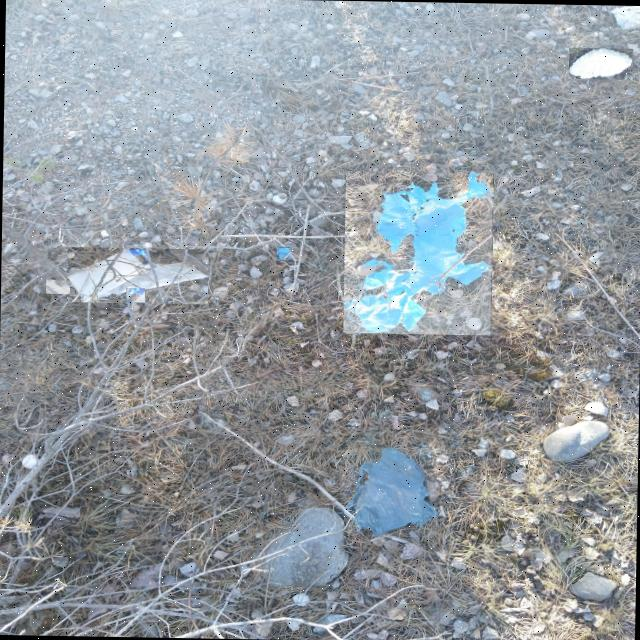Plastic film: (344, 173, 492, 333), (345, 448, 437, 536), (68, 248, 207, 302), (46, 279, 70, 293), (127, 288, 145, 302), (276, 247, 289, 259)
Styrofoam piece: (569, 48, 632, 79)
